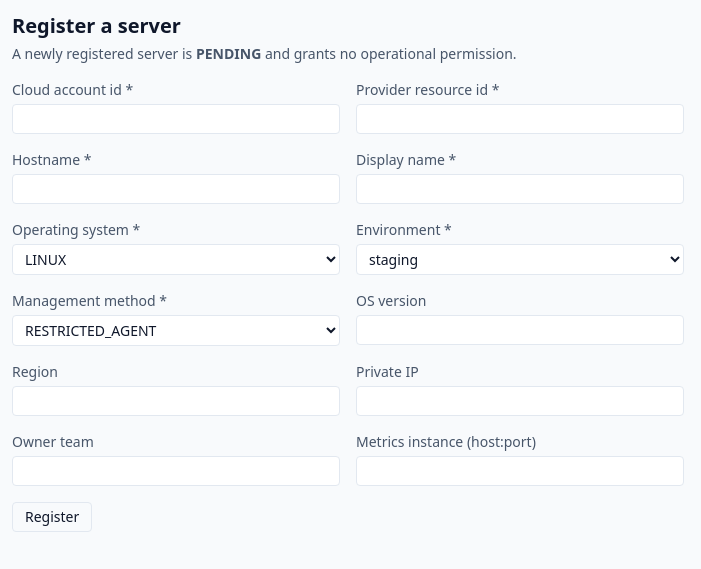
it: ServerForm › maps a field error onto its input
Type "a1" into the field labelled "Cloud account id *" at coordinates (176, 119), box [12, 104, 340, 134]
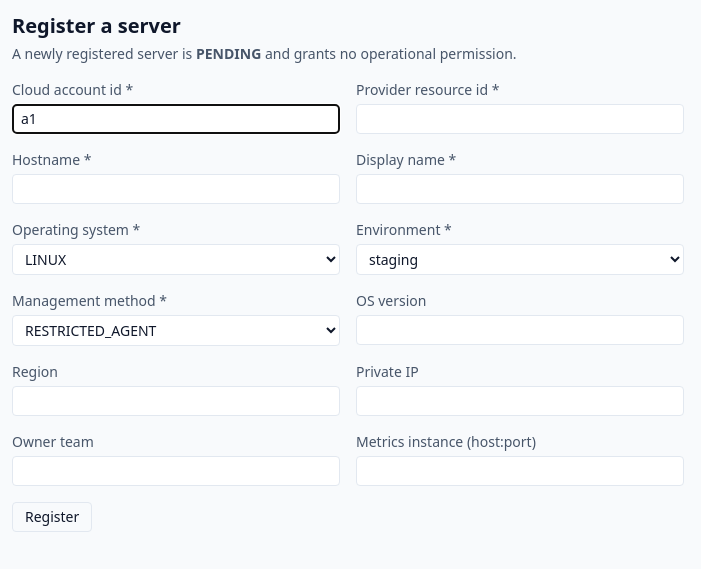
Type "host-1" into the field labelled "Provider resource id *" at coordinates (520, 119), box [356, 104, 684, 134]
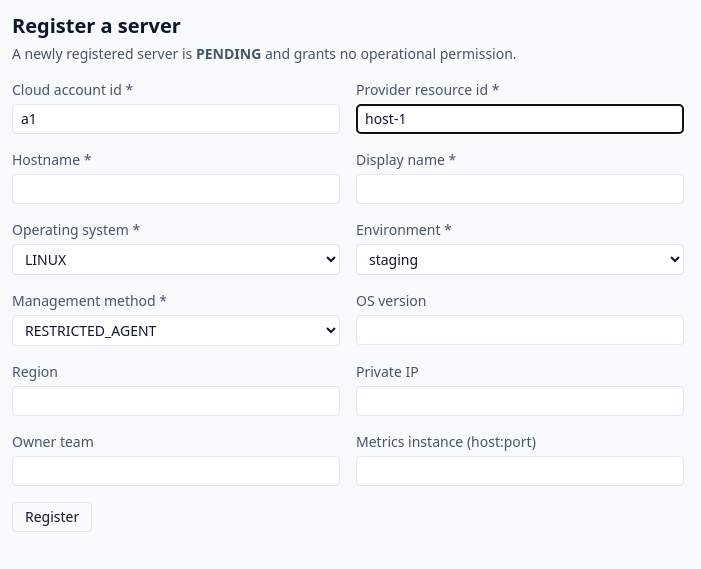
Type "web-01.internal.example" into the field labelled "Hostname *" at coordinates (176, 189), box [12, 174, 340, 204]
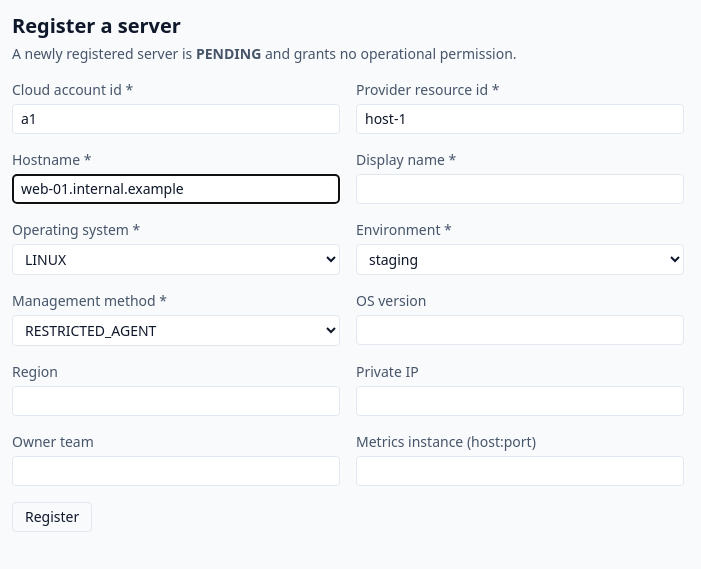
Type "Web 01" into the field labelled "Display name *" at coordinates (520, 189), box [356, 174, 684, 204]
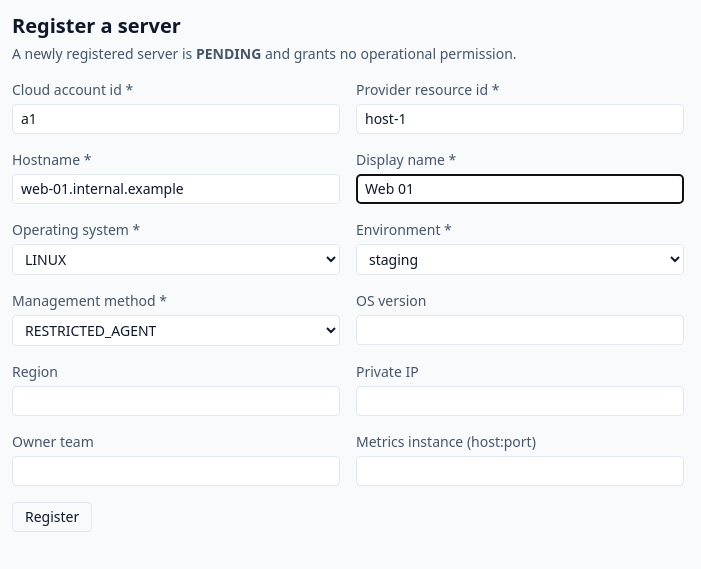
Click the button "Register" at coordinates (52, 517), box [12, 502, 92, 532]
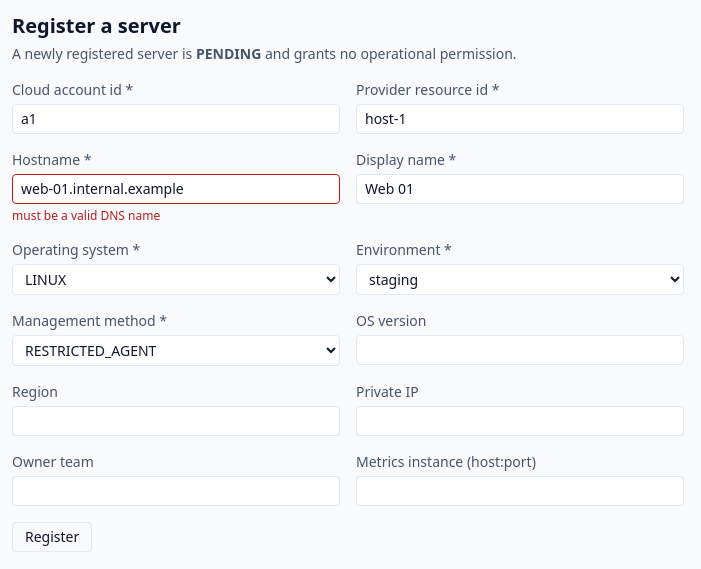
Expected: the message reads "must be a valid DNS name", [12, 207, 160, 224]
